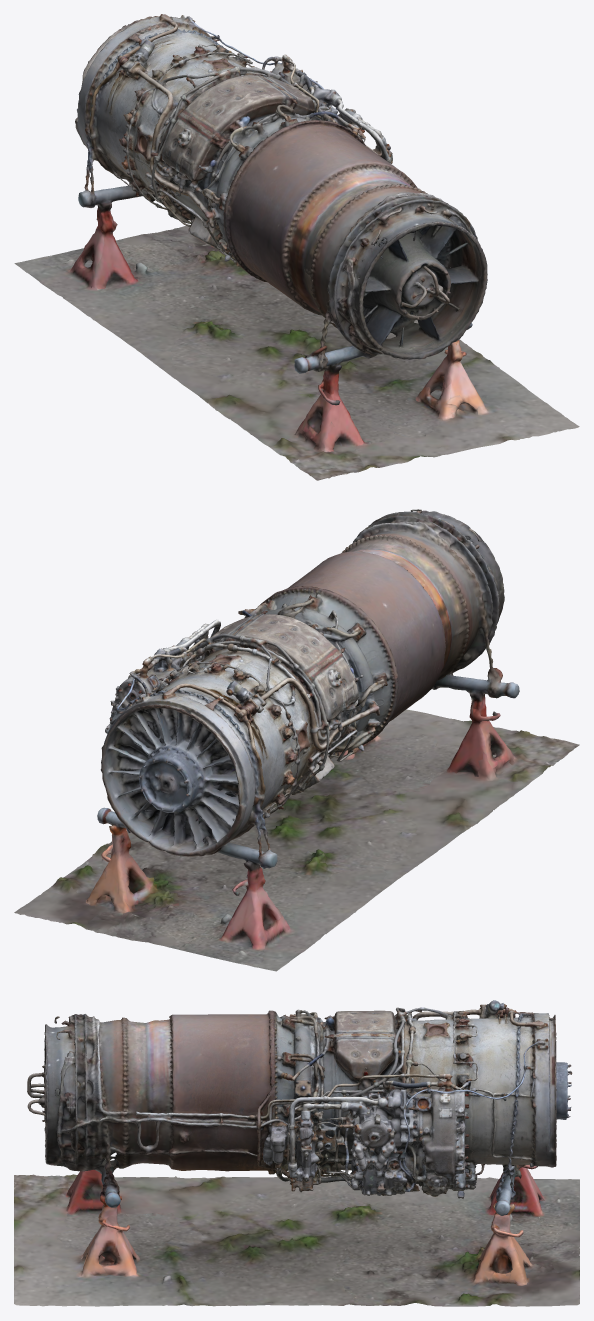
File: sexyjetengine.glb
The picture shows the model from 3 angles, top to bottom: view 1: azimuth 30°, elevation 25°; view 2: azimuth 150°, elevation 25°; view 3: azimuth 270°, elevation 25°; orthographic projection. The views are drawn at different scales.
Bounding box in the file's own units: 1.2 × 1.06 × 2.39.
1 material, 1 textured.
